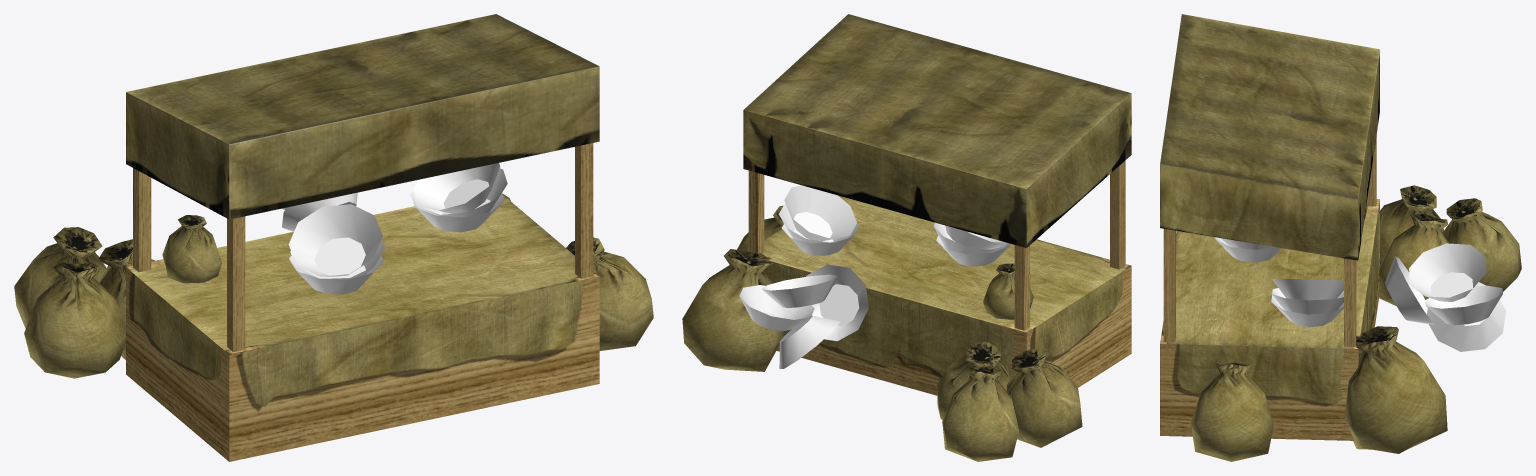
File: store12.fbx
3 renders of one model, left to right at view 1: azimuth 30°, elevation 25°; view 2: azimuth 150°, elevation 25°; view 3: azimuth 270°, elevation 25°, orthographic. The views are drawn at different scales.
Visible parts, largest first — view 1: stand_3, bag_59, bowl_28, bag_61, bag_57, bag_62, bowl_27, bag_60, bowl_29, bowl_25, bowl_23, bowl_30; view 2: stand_3, bag_58, bag_57, bag_59, bowl_27, bowl_23, bag_60, bowl_22, bowl_21, bowl_24, bag_62, bowl_29 (+5 smaller); view 3: stand_3, bag_58, bag_61, bag_57, bowl_21, bag_60, bowl_24, bag_59, bowl_22, bowl_23, bowl_27, bowl_30 (+2 smaller).
Part boxes in pixels (bbox=[...]): stand_3: bbox=[126, 14, 599, 461]; bag_59: bbox=[24, 262, 125, 378]; bowl_28: bbox=[288, 204, 382, 276]; bag_61: bbox=[566, 237, 653, 350]; bag_57: bbox=[14, 227, 106, 328]; bag_62: bbox=[162, 215, 221, 283]; bowl_27: bbox=[413, 163, 500, 213]; bag_60: bbox=[97, 239, 155, 359]; bowl_29: bbox=[410, 191, 504, 232]; bowl_25: bbox=[289, 255, 383, 294]; bowl_23: bbox=[282, 192, 357, 231]; bowl_30: bbox=[419, 168, 507, 217]; stand_3: bbox=[743, 14, 1131, 395]; bag_58: bbox=[682, 249, 784, 371]; bag_57: bbox=[942, 366, 1019, 461]; bag_59: bbox=[1006, 348, 1082, 447]; bowl_27: bbox=[784, 185, 856, 241]; bowl_23: bbox=[806, 264, 868, 341]; bag_60: bbox=[937, 342, 1010, 420]; bowl_22: bbox=[739, 285, 814, 331]; bowl_21: bbox=[762, 274, 838, 308]; bowl_24: bbox=[779, 315, 840, 368]; bag_62: bbox=[983, 263, 1033, 319]; bowl_29: bbox=[781, 223, 859, 255]; stand_3: bbox=[1160, 14, 1379, 440]; bag_58: bbox=[1344, 326, 1447, 453]; bag_61: bbox=[1191, 362, 1273, 461]; bag_57: bbox=[1443, 198, 1521, 291]; bowl_21: bbox=[1409, 243, 1486, 301]; bag_60: bbox=[1379, 213, 1449, 305]; bowl_24: bbox=[1427, 282, 1506, 351]; bag_59: bbox=[1380, 185, 1443, 265]; bowl_22: bbox=[1425, 285, 1502, 325]; bowl_23: bbox=[1385, 256, 1434, 324]; bowl_27: bbox=[1272, 279, 1343, 300]; bowl_30: bbox=[1271, 288, 1343, 314].
Bounding box in the file's own units: 94.46 × 58.25 × 67.3.
